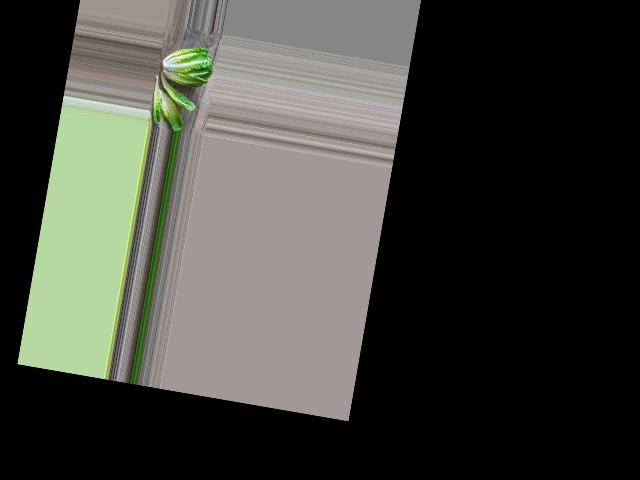lettuce: (159, 39, 215, 91)
